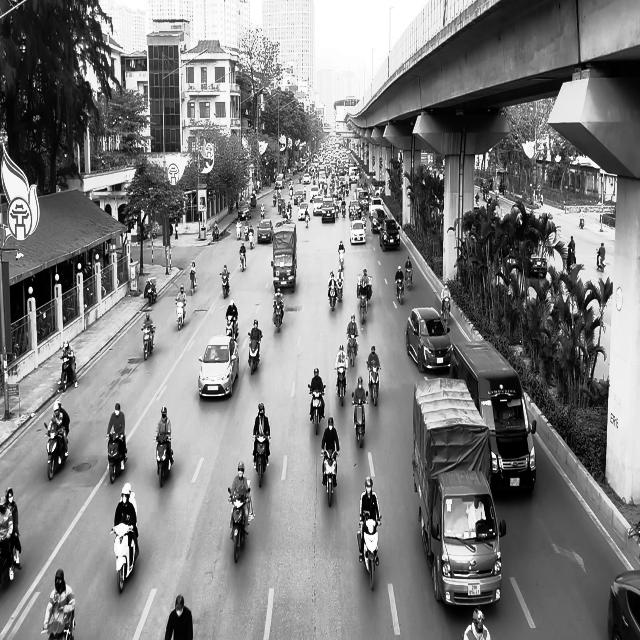bus: (449, 338, 537, 493)
car: (406, 306, 452, 372), (198, 335, 239, 399), (607, 568, 640, 640), (379, 218, 400, 251), (257, 218, 273, 244), (349, 220, 366, 244)
motorbike: (356, 514, 382, 590), (111, 523, 139, 593), (228, 486, 252, 562), (44, 422, 68, 481), (0, 532, 22, 585), (106, 431, 127, 483), (154, 435, 174, 487), (321, 449, 338, 507), (252, 433, 270, 487), (308, 383, 325, 435), (351, 395, 368, 447), (59, 355, 77, 392), (247, 332, 262, 374), (367, 362, 380, 406), (142, 326, 156, 360), (335, 367, 347, 406), (272, 300, 284, 332), (346, 334, 358, 366), (357, 291, 368, 324), (441, 296, 451, 332), (175, 298, 186, 330), (146, 277, 157, 305), (327, 280, 337, 310), (220, 273, 229, 298), (596, 248, 605, 272), (396, 279, 404, 305), (405, 266, 412, 290), (190, 273, 197, 296), (239, 250, 246, 271)
truck: (412, 377, 506, 608)
